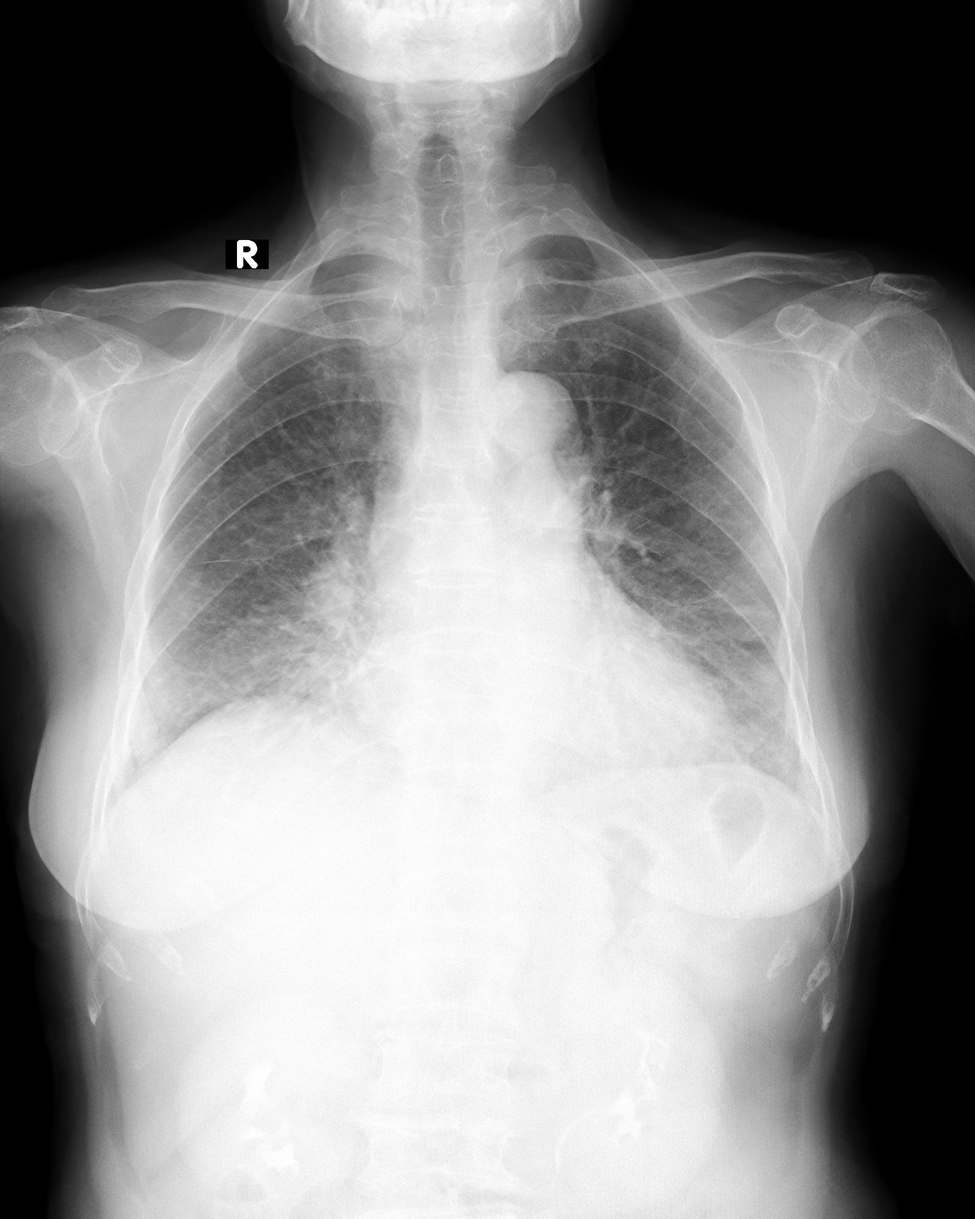Aortic enlargement: (455, 362, 584, 489)
Cardiomegaly: (348, 631, 737, 793)
